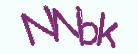N: (20, 5, 58, 45), (51, 6, 83, 41)
b: (76, 11, 99, 45)
k: (96, 12, 117, 48)
